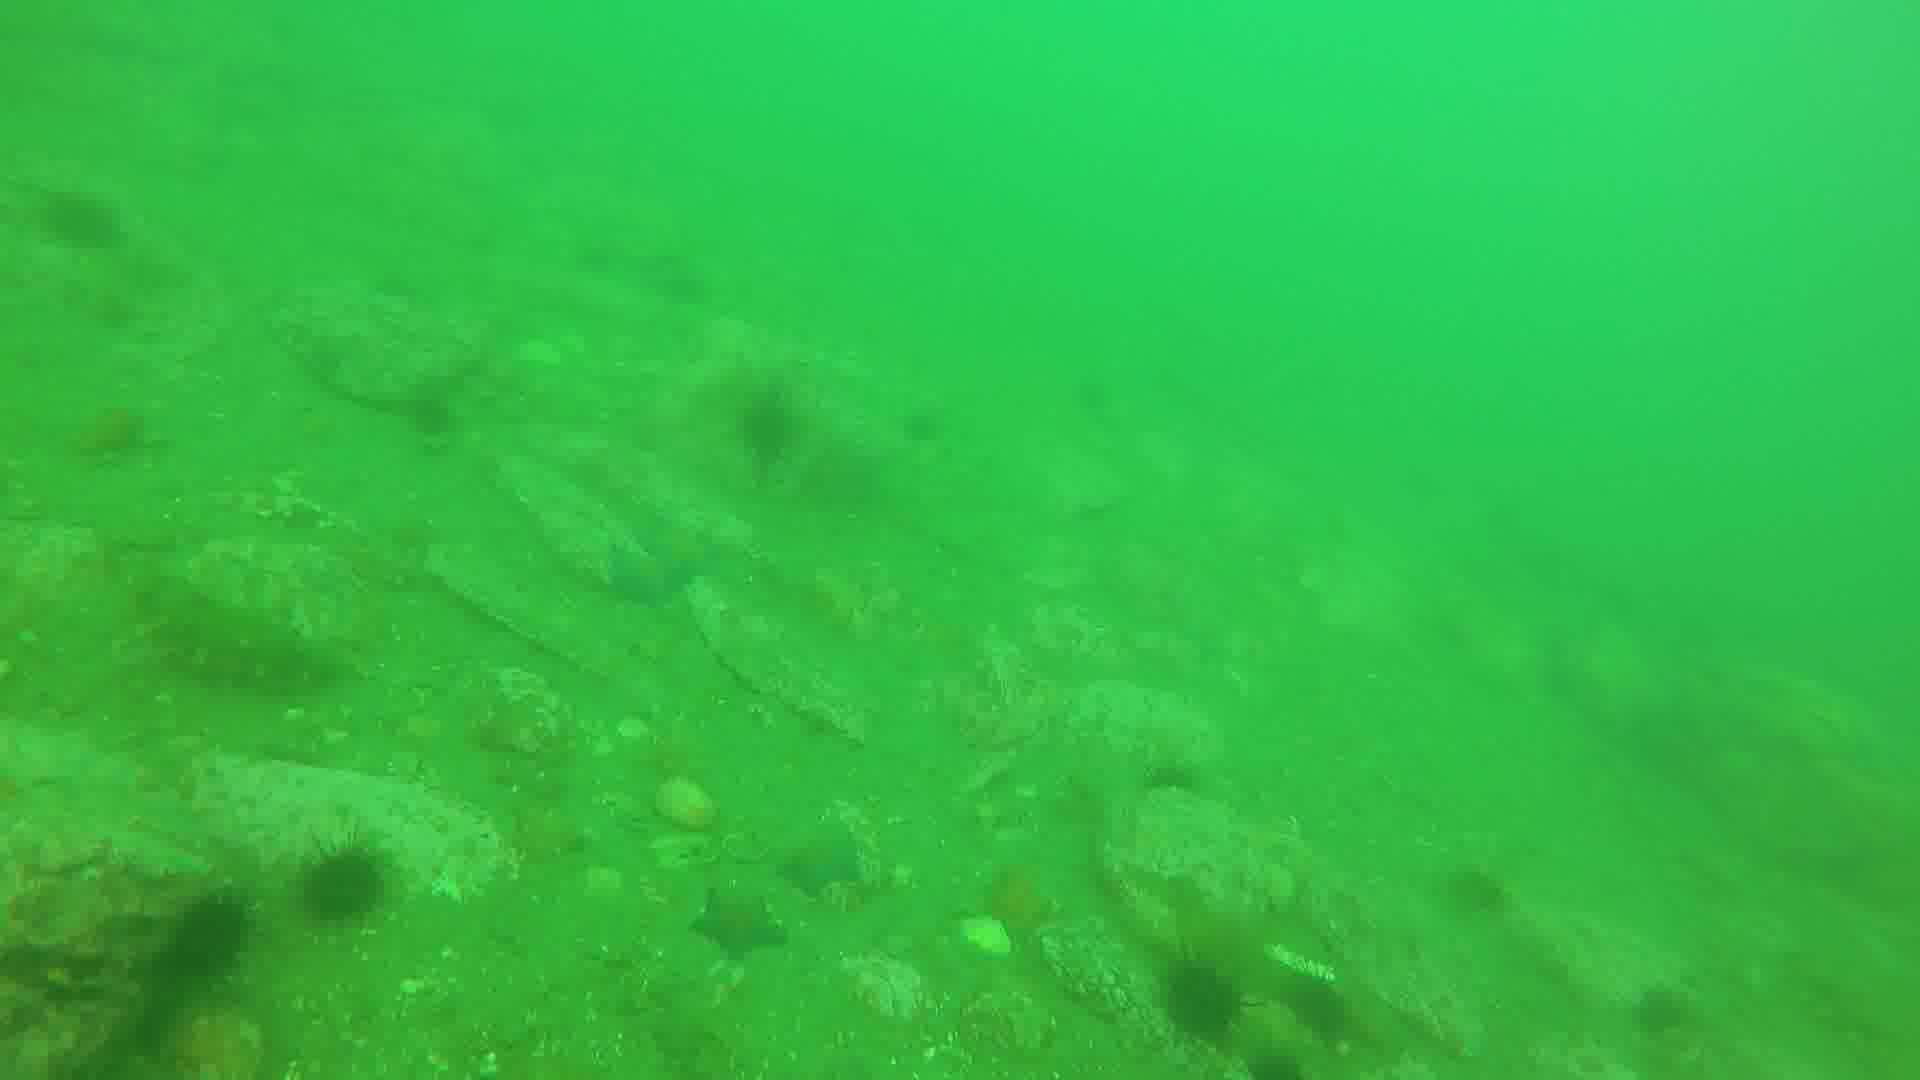echinus: (291, 848, 407, 935), (150, 893, 244, 992), (1164, 956, 1246, 1026), (1287, 971, 1346, 1042), (742, 400, 796, 450), (55, 200, 112, 243), (402, 394, 459, 435), (1249, 1051, 1309, 1080), (1143, 757, 1187, 796)
holothurian: (131, 580, 335, 698)
scallop: (961, 902, 1015, 967)
starfish: (688, 886, 783, 953), (777, 835, 856, 891)
